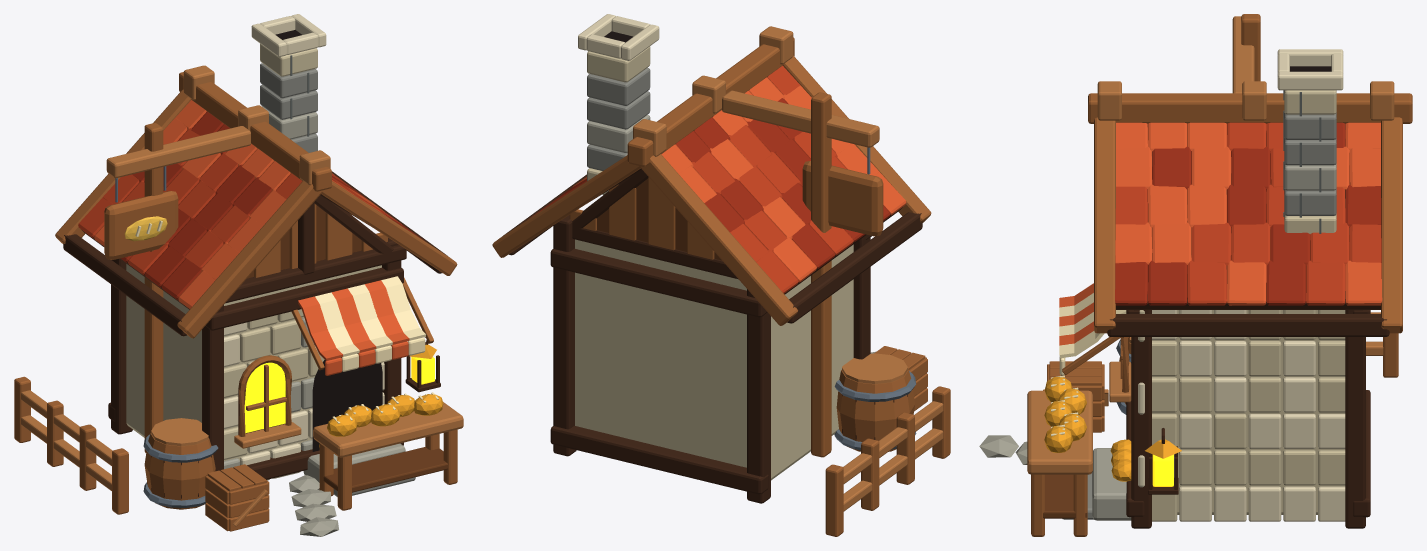
The model's file is bakery.glb.
3 views of the same model, side by side, from view 1: azimuth 30°, elevation 25°; view 2: azimuth 150°, elevation 25°; view 3: azimuth 270°, elevation 25° (orthographic). The views are drawn at different scales.
Parts seen in each view (by area): view 1: Cottage walls, Carved roof verge, Bakery sign post, Ridge timber, Baker market counter, Bakery wooden sign, Wall cross beam.002, Bakery oven opening, Bakery hanging sign beam, Barrel staves, Gable tie beam, Roof eave (+75 smaller); view 2: Cottage walls, Bakery sign post, Carved roof verge.001, Wall cross beam.001, Wall cross beam.003, Corner upright.003, Corner upright.001, Ridge timber, Bakery wooden sign, Roof eave, Barrel staves, Bakery hanging sign beam (+50 smaller); view 3: Roof eave.001, Ridge timber, Carved roof verge.003, Carved roof verge.002, Cottage walls, Corner upright.003, Baker market counter, Corner upright.002, Bakery threshold, Overlapping roof tile.067, Overlapping roof tile.064, Overlapping roof tile.066 (+83 smaller).
Boxes of the visible parts, box(x1,y1,x2,y2) form: Cottage walls: box(126, 264, 381, 460); Carved roof verge: box(177, 181, 322, 338); Bakery sign post: box(144, 123, 163, 452); Ridge timber: box(179, 72, 331, 191); Baker market counter: box(313, 402, 463, 457); Bakery wooden sign: box(104, 191, 178, 259); Wall cross beam.002: box(205, 267, 403, 330); Bakery oven opening: box(312, 353, 382, 451); Bakery hanging sign beam: box(106, 126, 250, 178); Barrel staves: box(144, 432, 215, 509); Gable tie beam: box(225, 245, 406, 303); Roof eave: box(63, 234, 186, 336); Cottage walls: box(575, 239, 853, 480); Bakery sign post: box(811, 92, 831, 457); Carved roof verge.001: box(640, 154, 797, 325); Wall cross beam.001: box(550, 426, 768, 494); Wall cross beam.003: box(550, 248, 767, 317); Corner upright.003: box(553, 215, 576, 456); Corner upright.001: box(747, 289, 770, 503); Ridge timber: box(627, 37, 794, 166); Bakery wooden sign: box(802, 161, 883, 236); Roof eave: box(787, 212, 922, 323); Barrel staves: box(836, 369, 915, 451); Bakery hanging sign beam: box(722, 90, 879, 147); Roof eave.001: box(1107, 314, 1389, 336); Ridge timber: box(1088, 93, 1412, 123); Carved roof verge.003: box(1381, 117, 1402, 333); Carved roof verge.002: box(1094, 117, 1115, 333); Cottage walls: box(1152, 310, 1345, 514); Corner upright.003: box(1345, 310, 1365, 528); Baker market counter: box(1027, 390, 1092, 474); Corner upright.002: box(1131, 310, 1151, 528); Bakery threshold: box(1092, 448, 1131, 520); Overlapping roof tile.067: box(1266, 260, 1305, 305); Overlapping roof tile.064: box(1148, 260, 1187, 305); Overlapping roof tile.066: box(1227, 260, 1266, 305).
Bounding box in the file's own units: 3.61 × 4.08 × 3.56.
